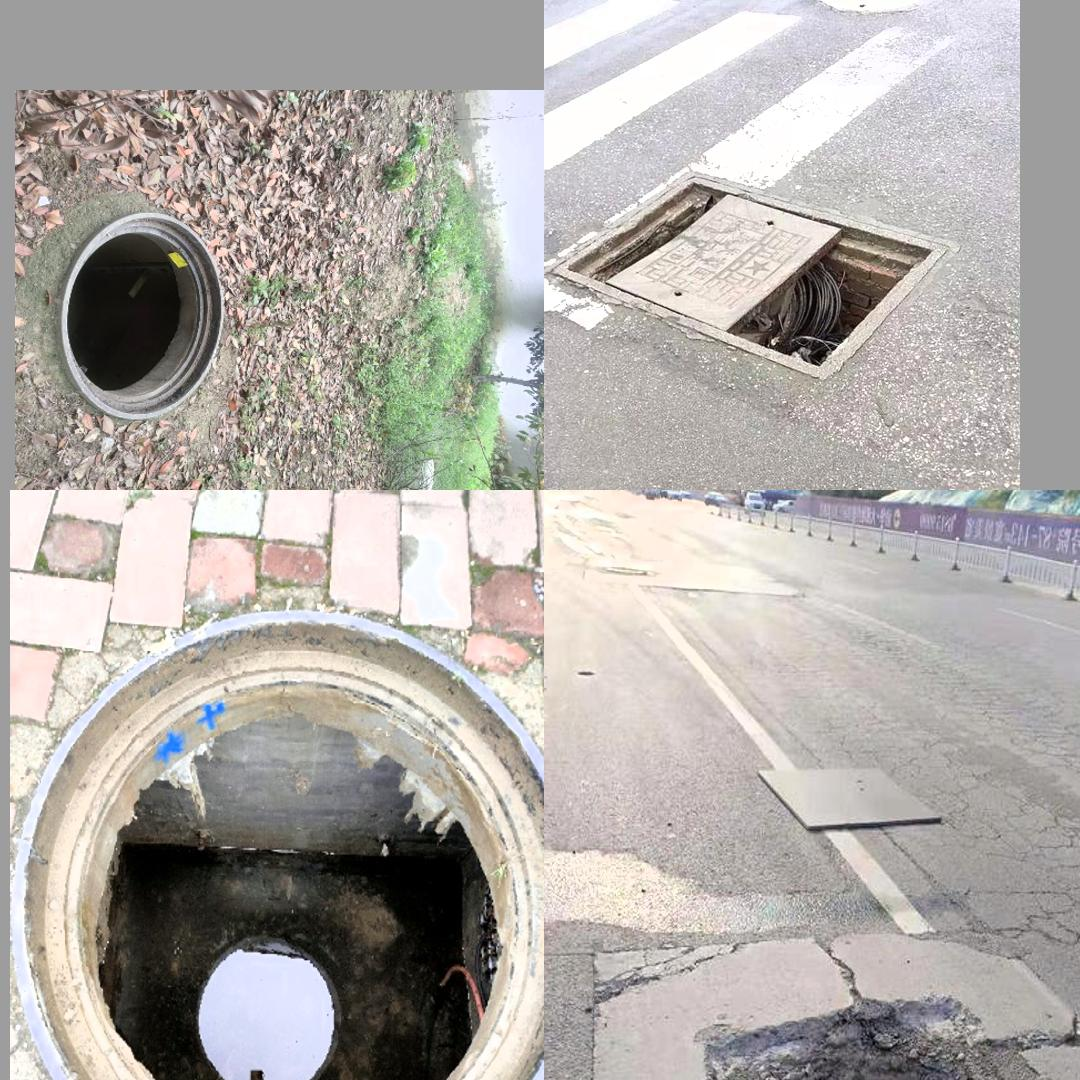lose: (12, 608, 539, 1080), (548, 155, 952, 390), (686, 971, 1080, 1080), (60, 210, 224, 419)
